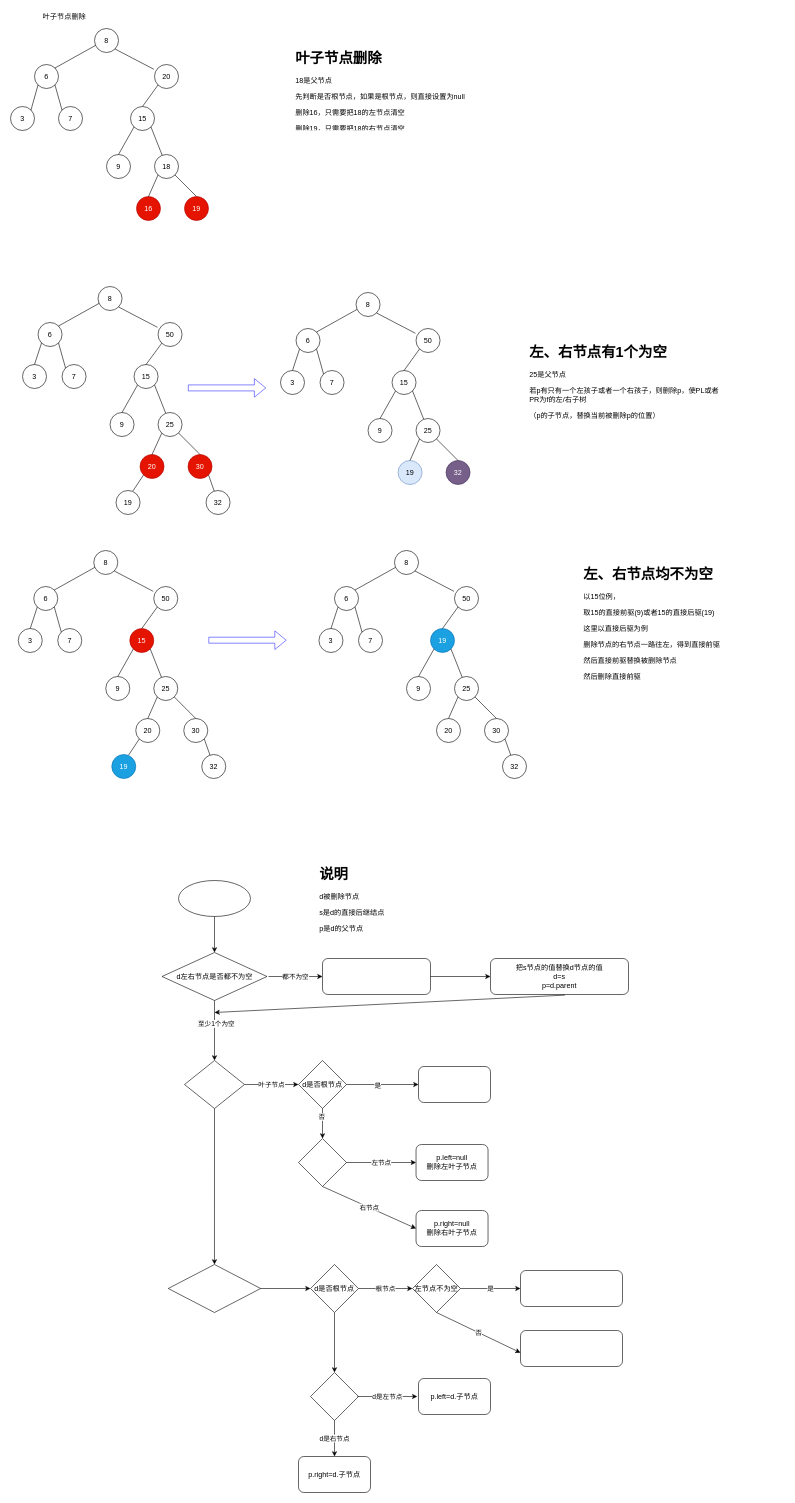
The diagram is 795 pixels wide and 1503 high, and some of its shapes have lost their labels. The shapes that lost their labels are listed below. From the top down, each one's centre as x and y in pixels, then its label:
point 214,898: 删除d节点
point 376,976: 找到的d的直接后继结点(s)
point 214,1084: 判断d是否叶子节点
point 454,1084: 把根节点设置为null
point 322,1162: 是否左节点
point 214,1288: 一个节点为空 一个节点不为空
point 571,1288: root=d.left 把左节点升级为root节点
point 571,1348: root=d.right 把右节点升级为root节点
point 334,1396: d是否左节点
